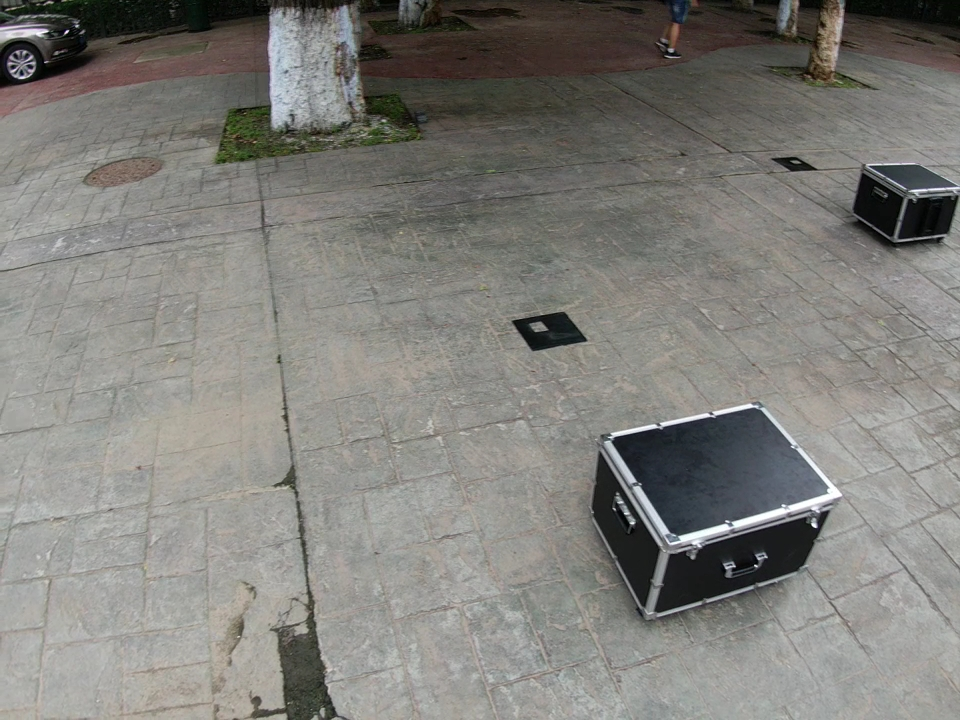box: (590, 403, 842, 619), (852, 162, 960, 242)
qrcode: (512, 312, 588, 351), (771, 157, 818, 172)
